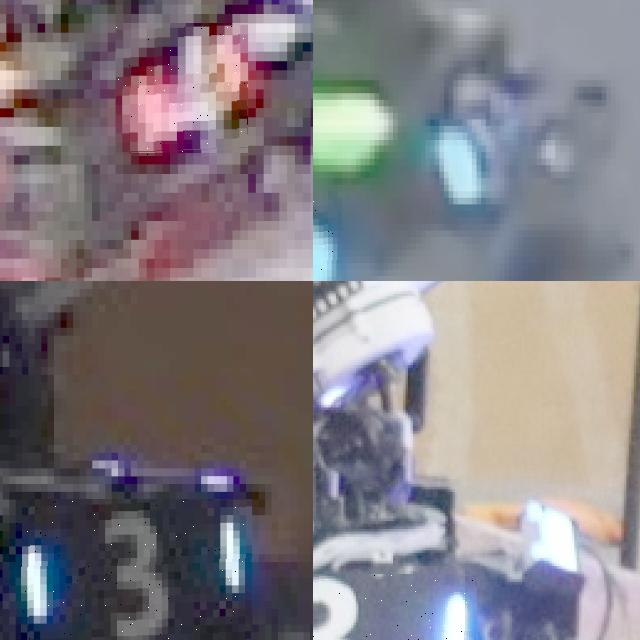B3: (15, 499, 252, 640), (313, 574, 477, 640)
R4: (116, 23, 248, 156)
